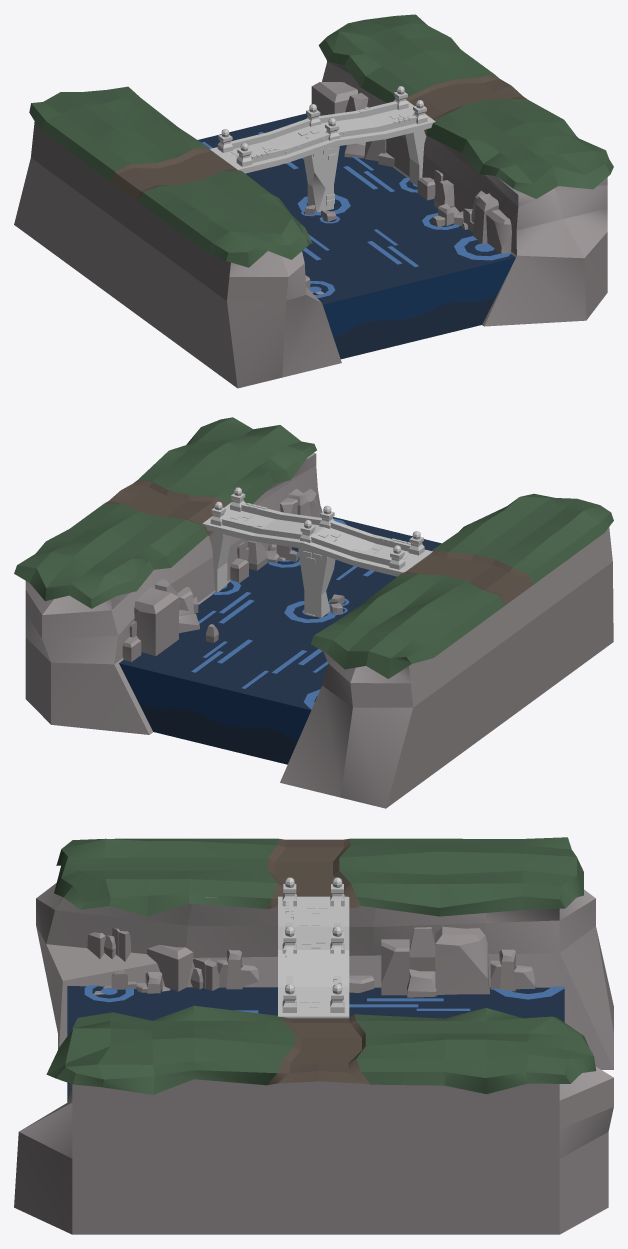
3 views of the same model, one above another, from view 1: azimuth 30°, elevation 25°; view 2: azimuth 150°, elevation 25°; view 3: azimuth 270°, elevation 25° (orthographic). The views are drawn at different scales.
Visible parts, largest first — view 1: Environment, Rock_Bridge; view 2: Environment, Rock_Bridge; view 3: Environment, Rock_Bridge.
Boxes of the visible parts, box(x1,y1,x2,y2) form: Environment: box(14, 14, 613, 388); Rock_Bridge: box(210, 86, 435, 212); Environment: box(14, 417, 613, 808); Rock_Bridge: box(202, 487, 432, 617); Environment: box(14, 837, 613, 1234); Rock_Bridge: box(278, 877, 349, 1018).
Bounding box in the file's own units: 2408 × 901 × 2525.
